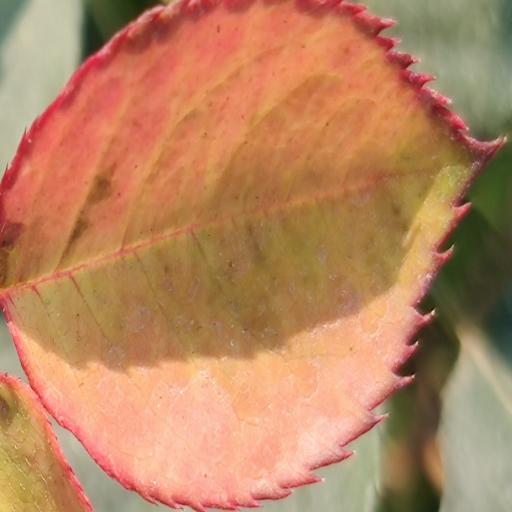red_mite: (0, 0, 503, 511)
